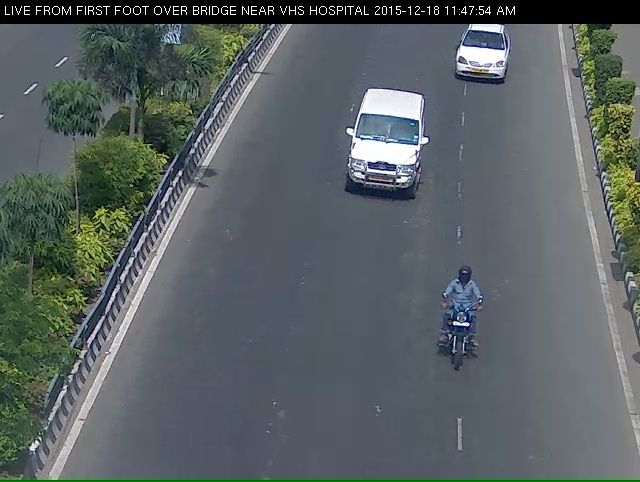Car: (341, 97, 426, 216), (452, 28, 508, 99)
Person: (433, 293, 489, 404)
